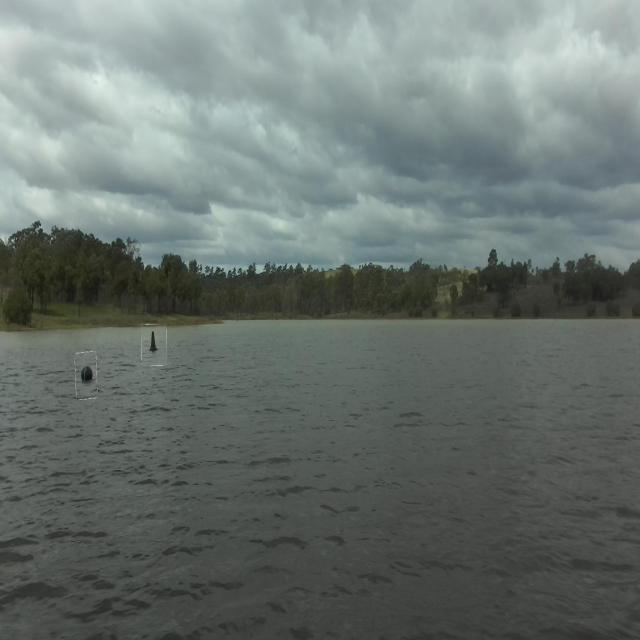Black_Buoy: (78, 350, 95, 391), (146, 326, 160, 367)
